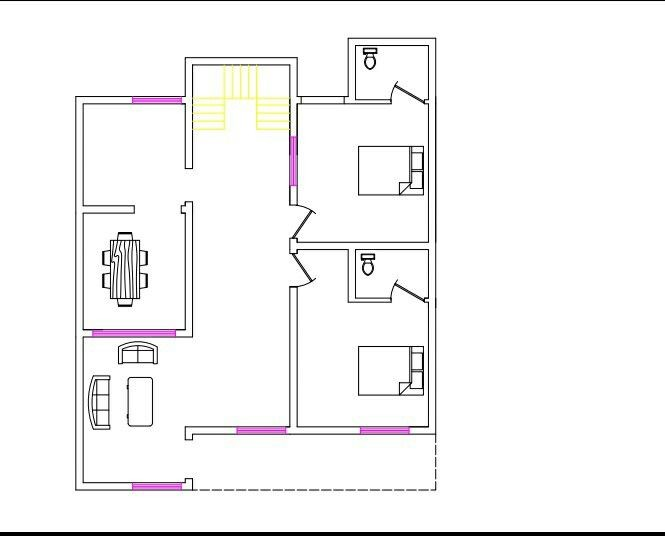door: (290, 203, 318, 237), (290, 251, 315, 289)
room: (291, 247, 434, 437), (290, 93, 437, 249), (75, 333, 192, 491), (74, 203, 195, 337)
wall: (70, 93, 88, 499), (424, 36, 440, 432), (183, 53, 303, 70), (181, 203, 197, 330), (288, 287, 301, 421), (181, 53, 196, 169), (284, 421, 361, 439), (349, 35, 442, 46), (345, 33, 359, 98), (77, 477, 130, 492), (186, 423, 237, 438), (74, 92, 131, 104), (76, 205, 143, 213)
window: (92, 325, 179, 338), (239, 423, 285, 438), (287, 132, 299, 189), (362, 424, 410, 438), (133, 480, 183, 493), (135, 91, 179, 105)
